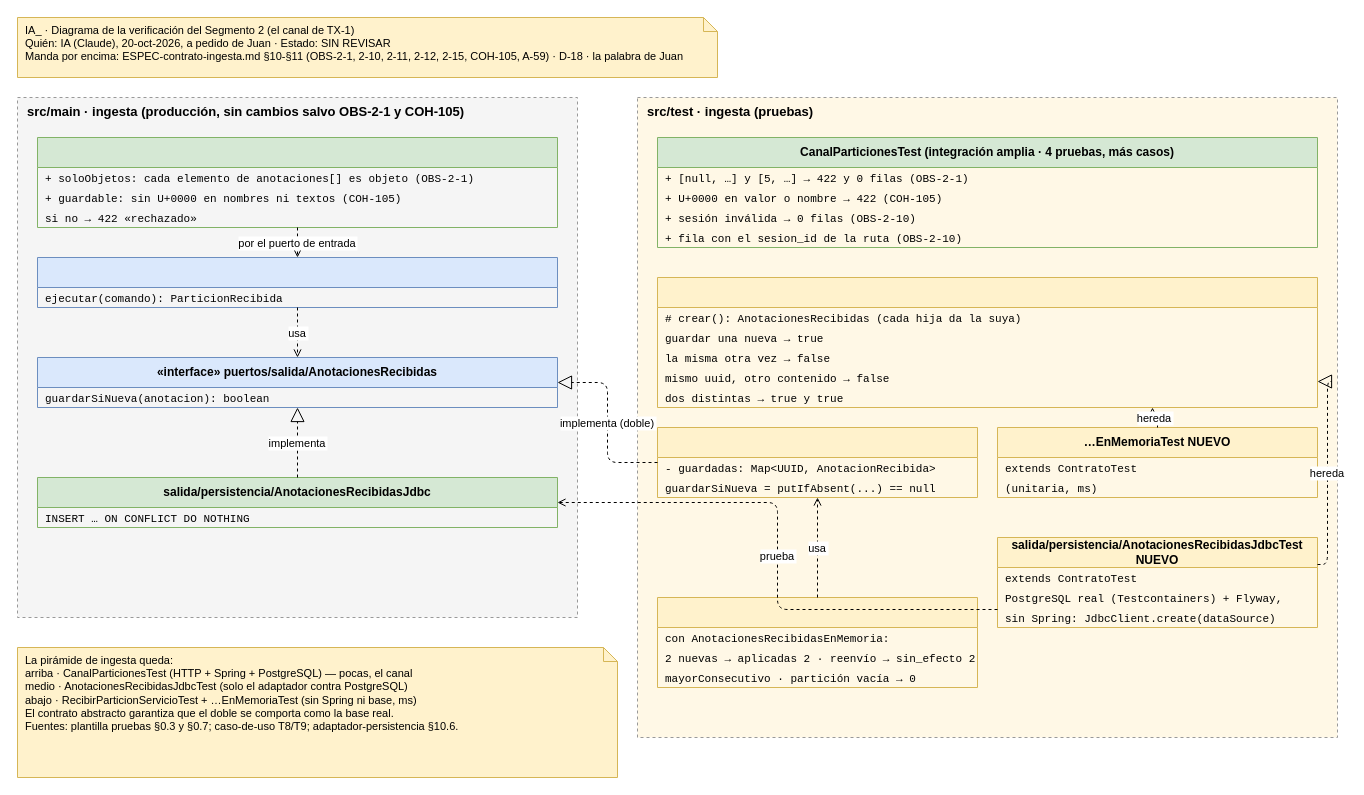
The diagram is 1364 pixels wide and 795 high, and some of its shapes have lost their labels. Each missing label, with the box of its shape:
casosuso/RecibirParticionServicio: (36, 256, 558, 308)
casosuso/RecibirParticionServicioTest NUEVO (unitaria): (656, 596, 978, 688)
entrada/web/ControladorParticiones (OBS-2-1): (36, 136, 558, 228)
puertos/salida/AnotacionesRecibidasEnMemoria NUEVO (doble): (656, 426, 978, 498)
«abstract» puertos/salida/AnotacionesRecibidasContratoTest NUEVO: (656, 276, 1318, 408)
